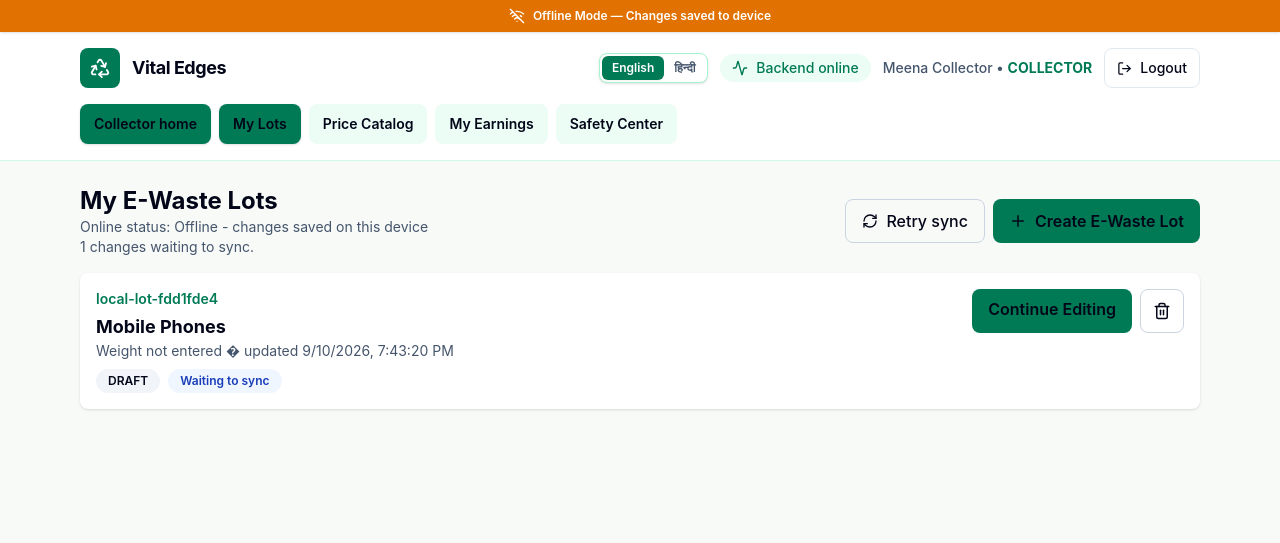
Test: Phase 2 collector drafts › offline state and failed sync expose retry
The width and height of the screenshot is (1280, 543).
Expected: the text "Online status: Offline - changes saved on this device" is shown, [80, 217, 428, 237]
Click the button "Retry sync". click: (915, 221)
box: [845, 199, 985, 243]
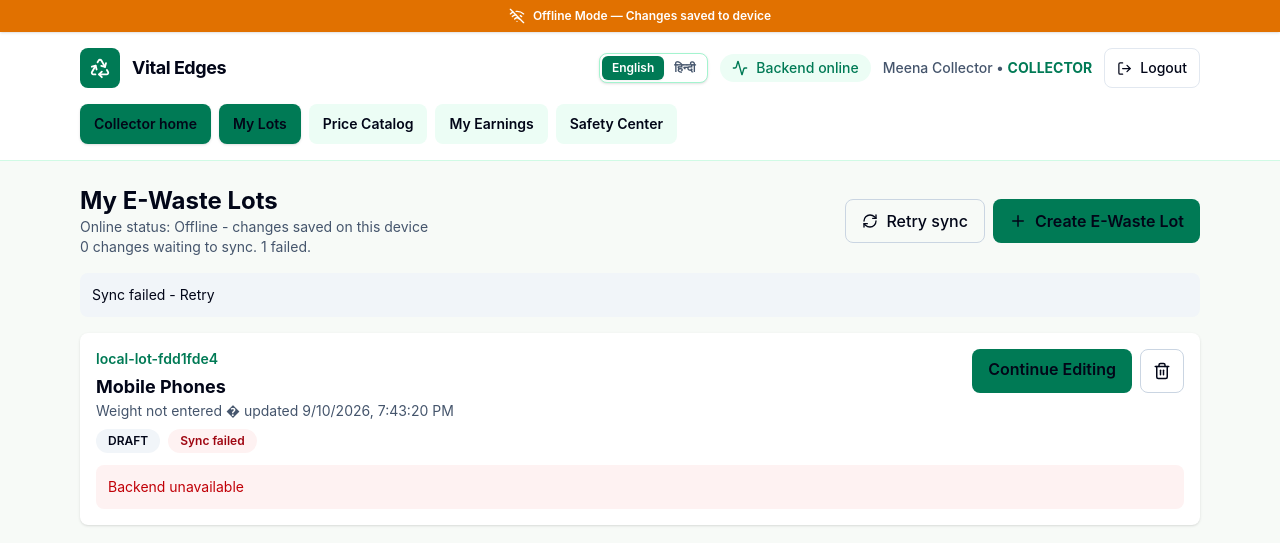
Now the text "Sync failed - Retry" is shown, box [80, 273, 1200, 317]
